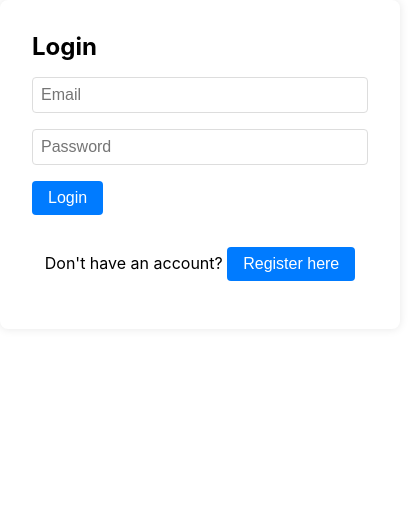
Test case: Authentication Flow › Registration › should display registration form when clicking register link
Click the button "Register here" at x=291, y=264, box [227,247,355,281]
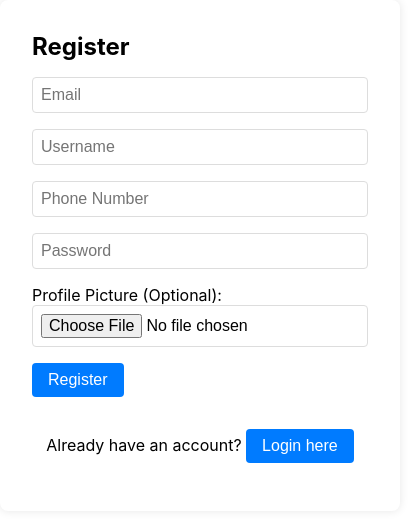
Expected: the field with placeholder "Email" is shown, [32,77,368,113]
Expected: the heading "Register" is shown, [32,32,130,61]
